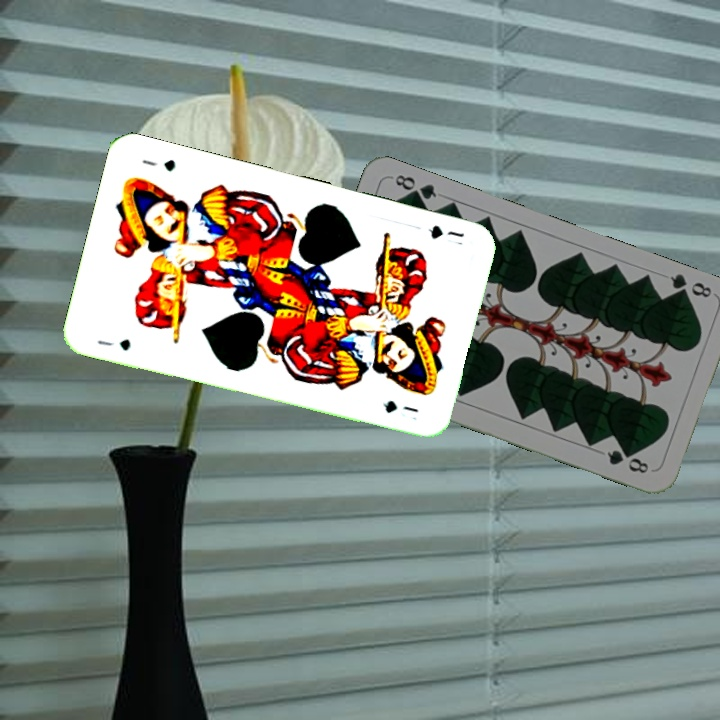G8: (666, 269, 714, 302)
GU: (424, 221, 467, 248), (93, 335, 133, 354)
